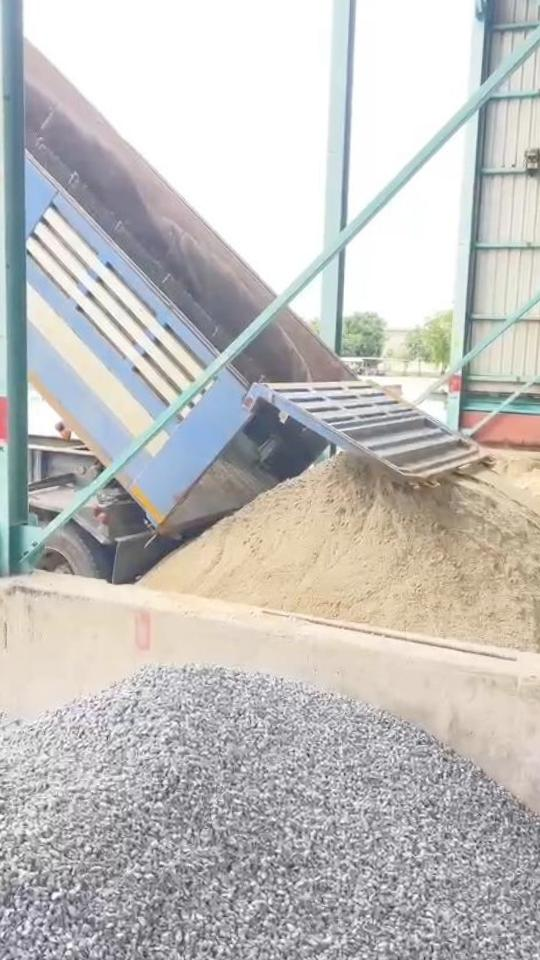gravel: (0, 667, 540, 960)
sand: (145, 455, 540, 657), (509, 468, 540, 507)
